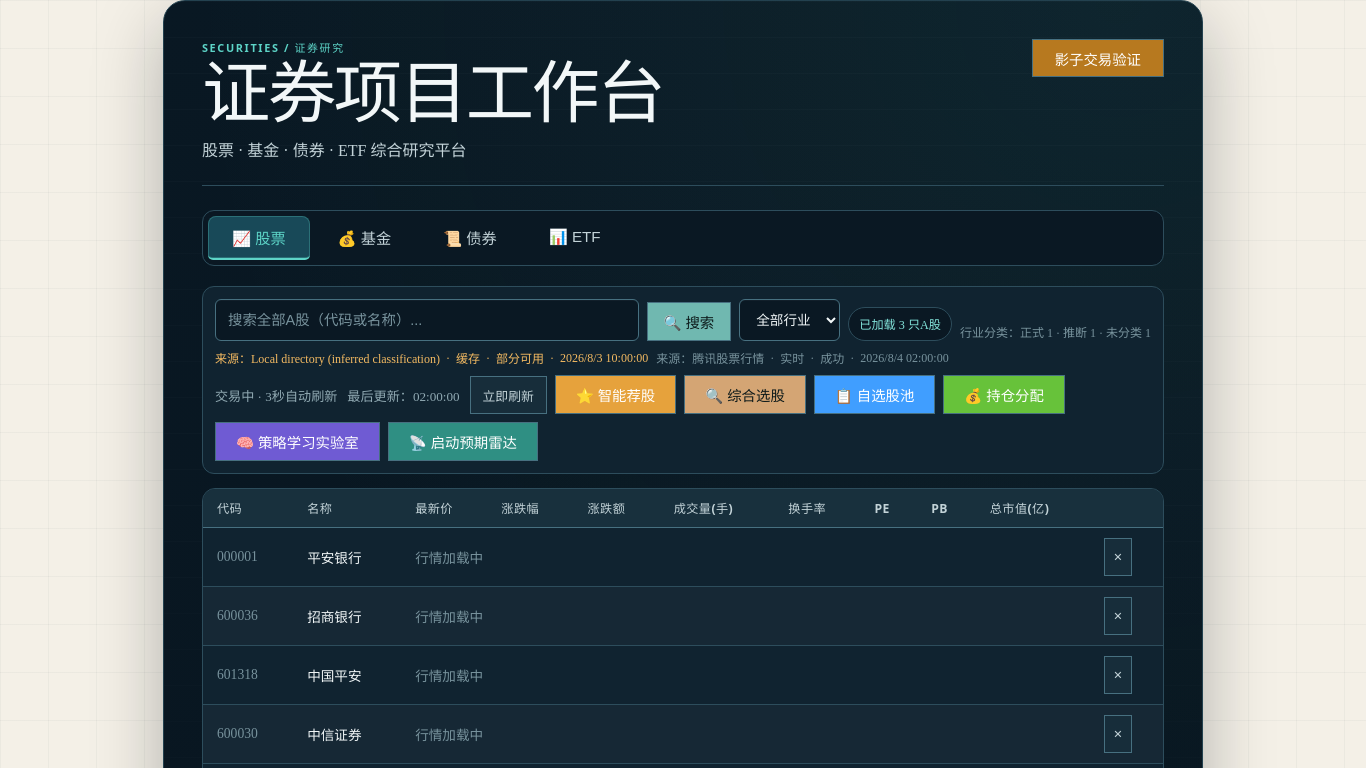
Test case: SecuritiesWorkbenchPage › loads the complete A-share directory and searches stocks outside the default watchlist
Expected: the text "已加载 3 只A股" is shown, [848,307,952,341]
Type "中芯" into the field with placeholder "搜索全部A股（代码或名称）...".
click(427, 320); type("中芯")  # box [215,299,638,341]
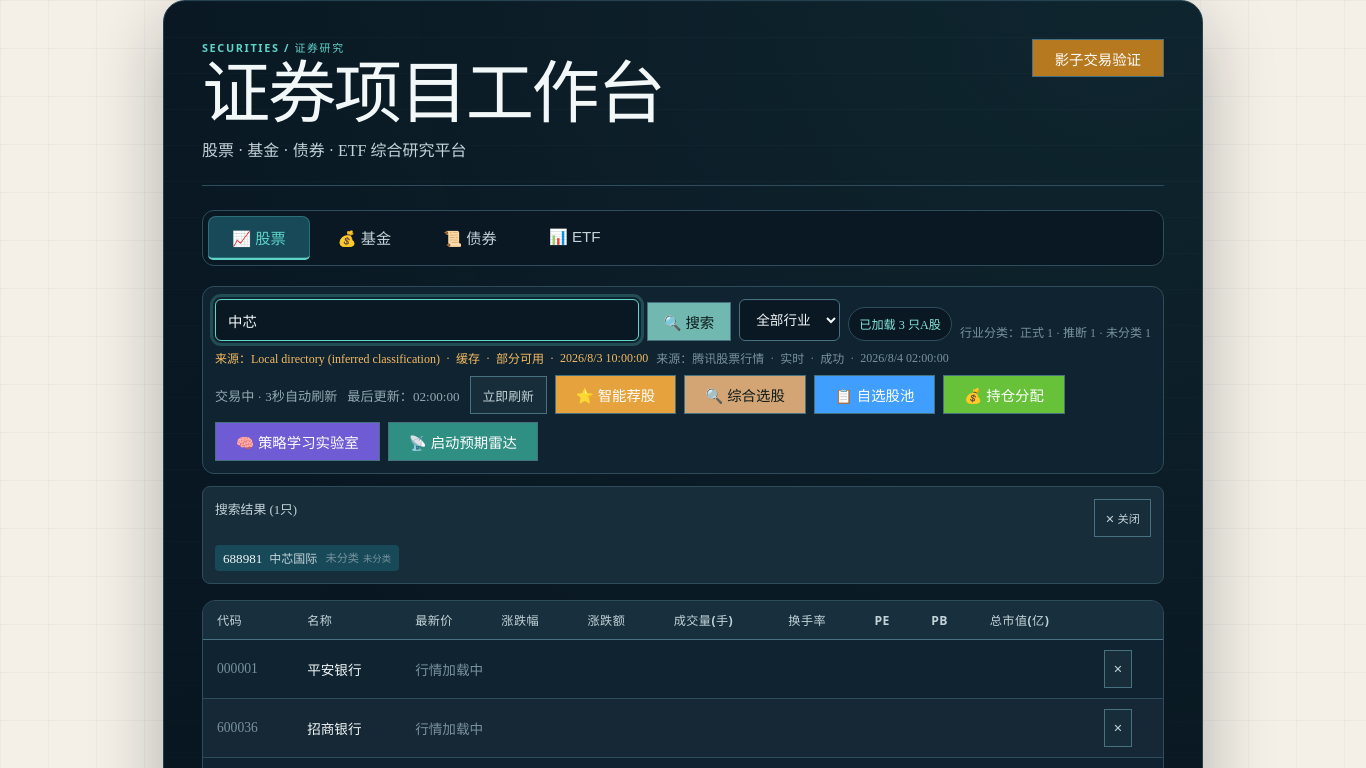
Result: the text "中芯国际" is shown at [269,549,317,567]
Result: the text "688981" is shown at [223,551,262,567]
